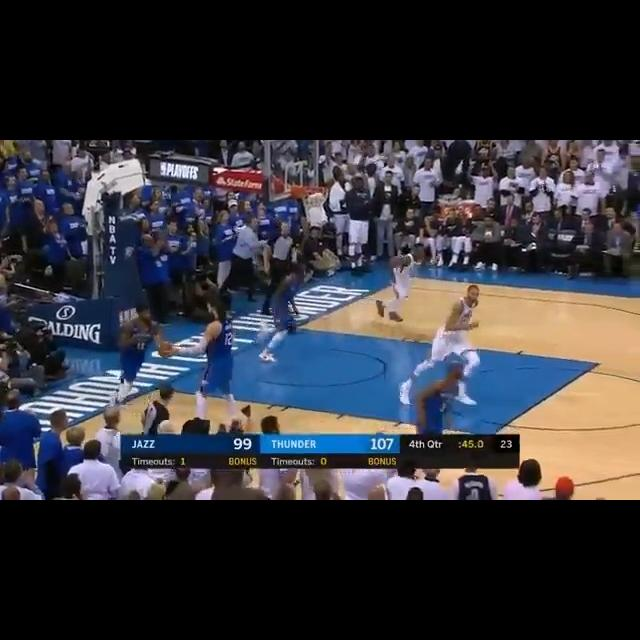basketball: (156, 341, 173, 358)
hoop: (297, 182, 328, 211)
